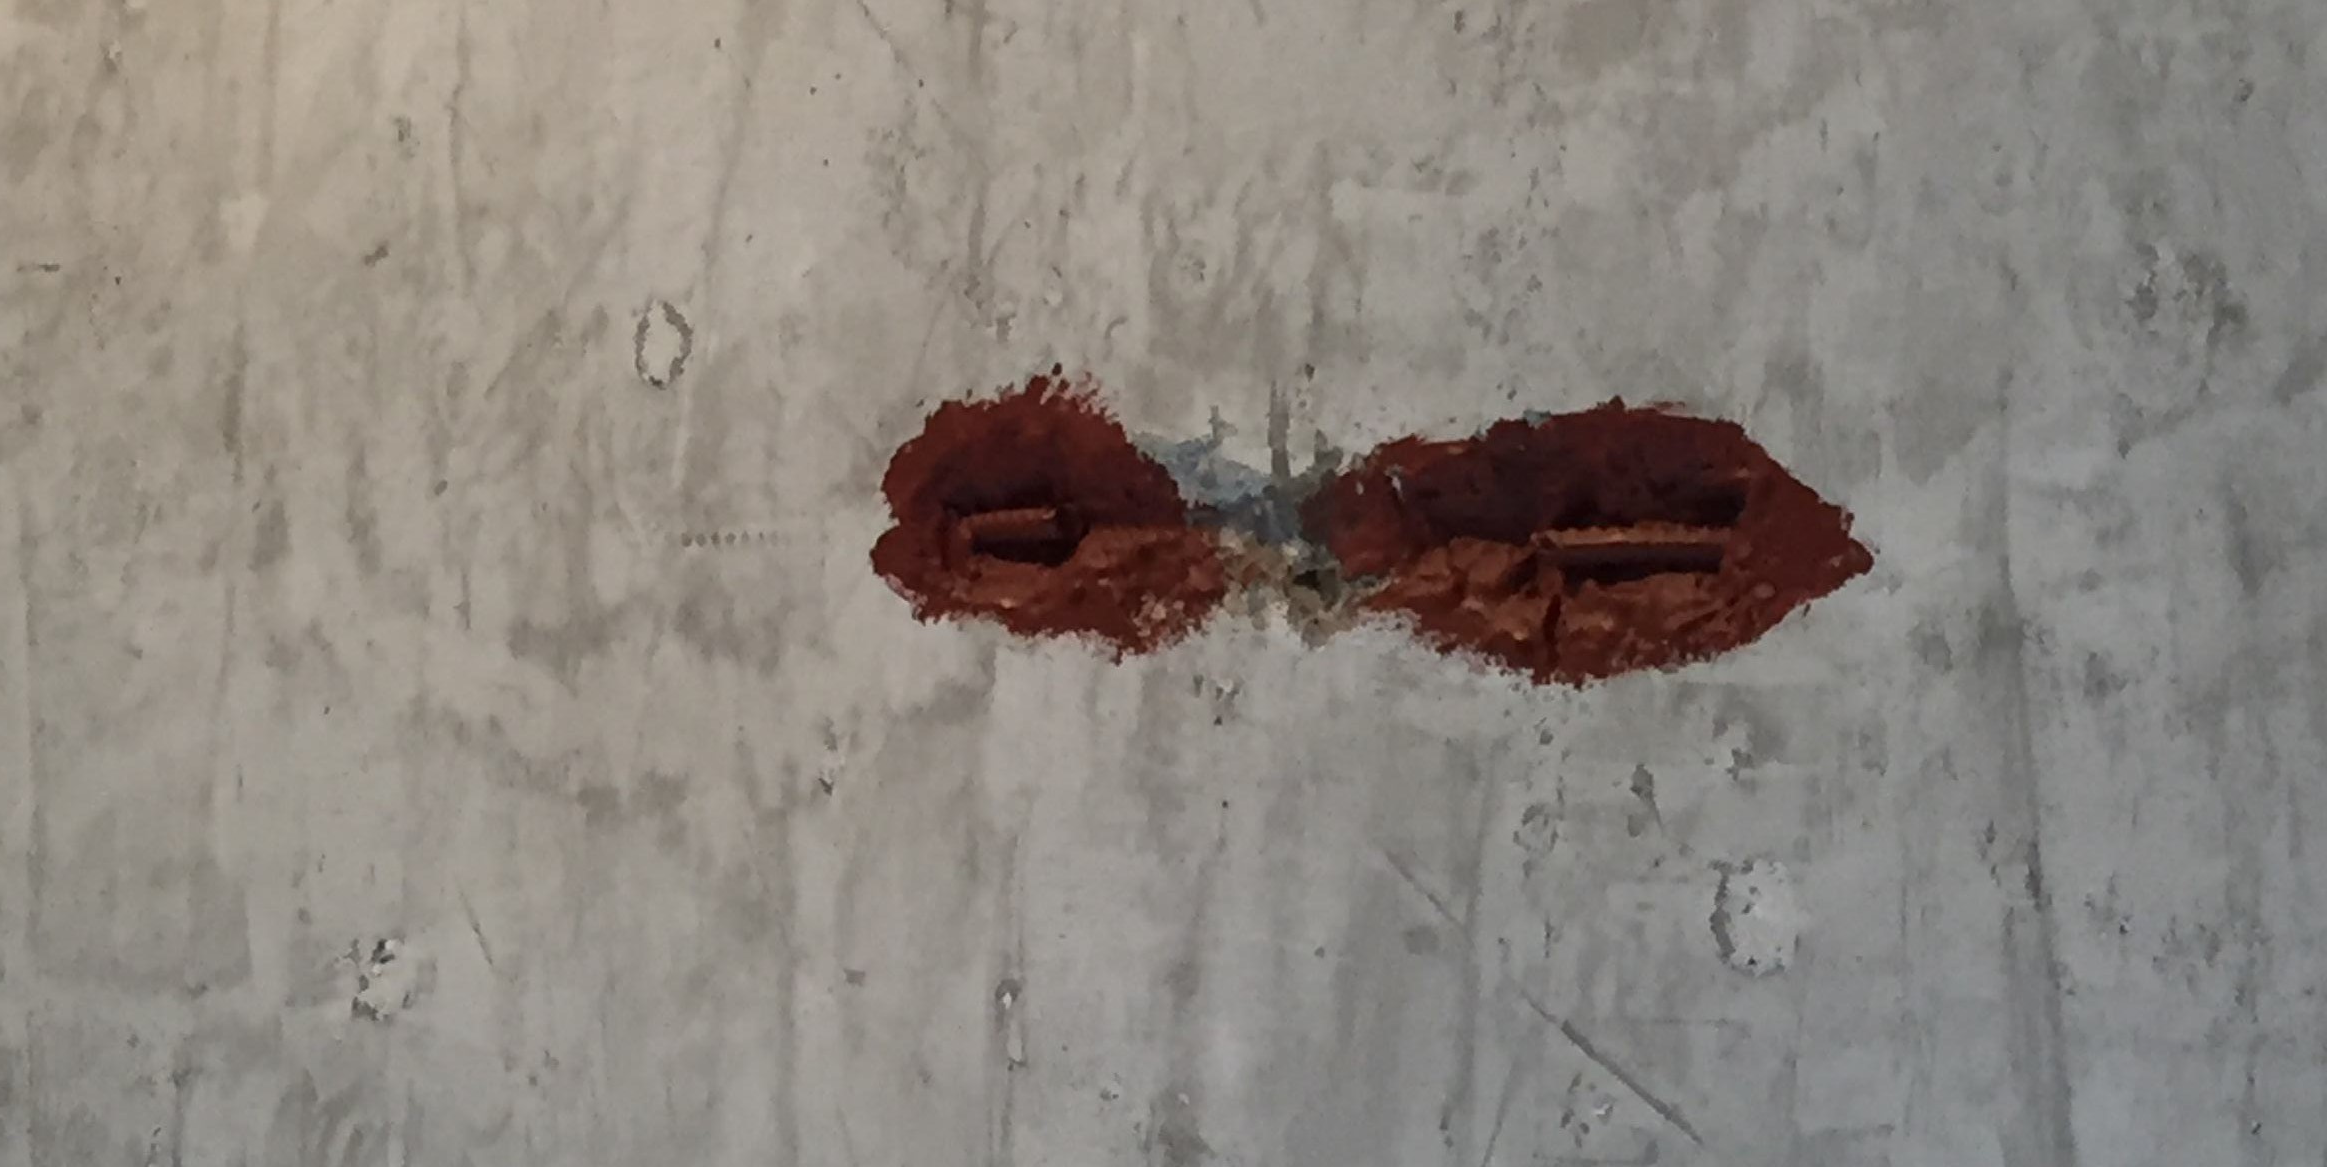Corrosion: (1290, 394, 1875, 691), (869, 363, 1232, 665)
Exposed reinforcement: (1530, 518, 1733, 564), (963, 505, 1061, 546)
